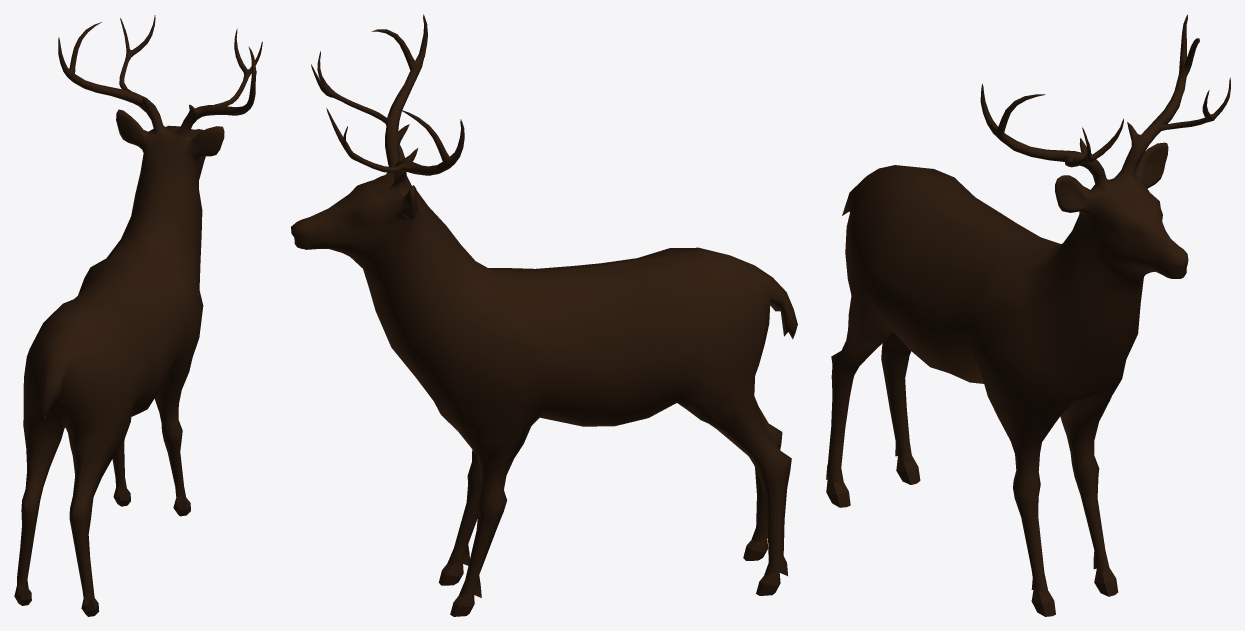
The model's file is Deer_Big.FBX.
3 views of the same model, side by side, from view 1: azimuth 30°, elevation 25°; view 2: azimuth 150°, elevation 25°; view 3: azimuth 270°, elevation 25° (orthographic). The views are drawn at different scales.
Parts seen in each view (by area): view 1: Deer_Big; view 2: Deer_Big; view 3: Deer_Big.
Boxes of the visible parts, x1,y1,x2,y2 form: Deer_Big: (14,15,262,616); Deer_Big: (291,14,797,616); Deer_Big: (826,14,1230,616).
Size of the model in its own units: 6.14 by 8.26 by 5.42.
